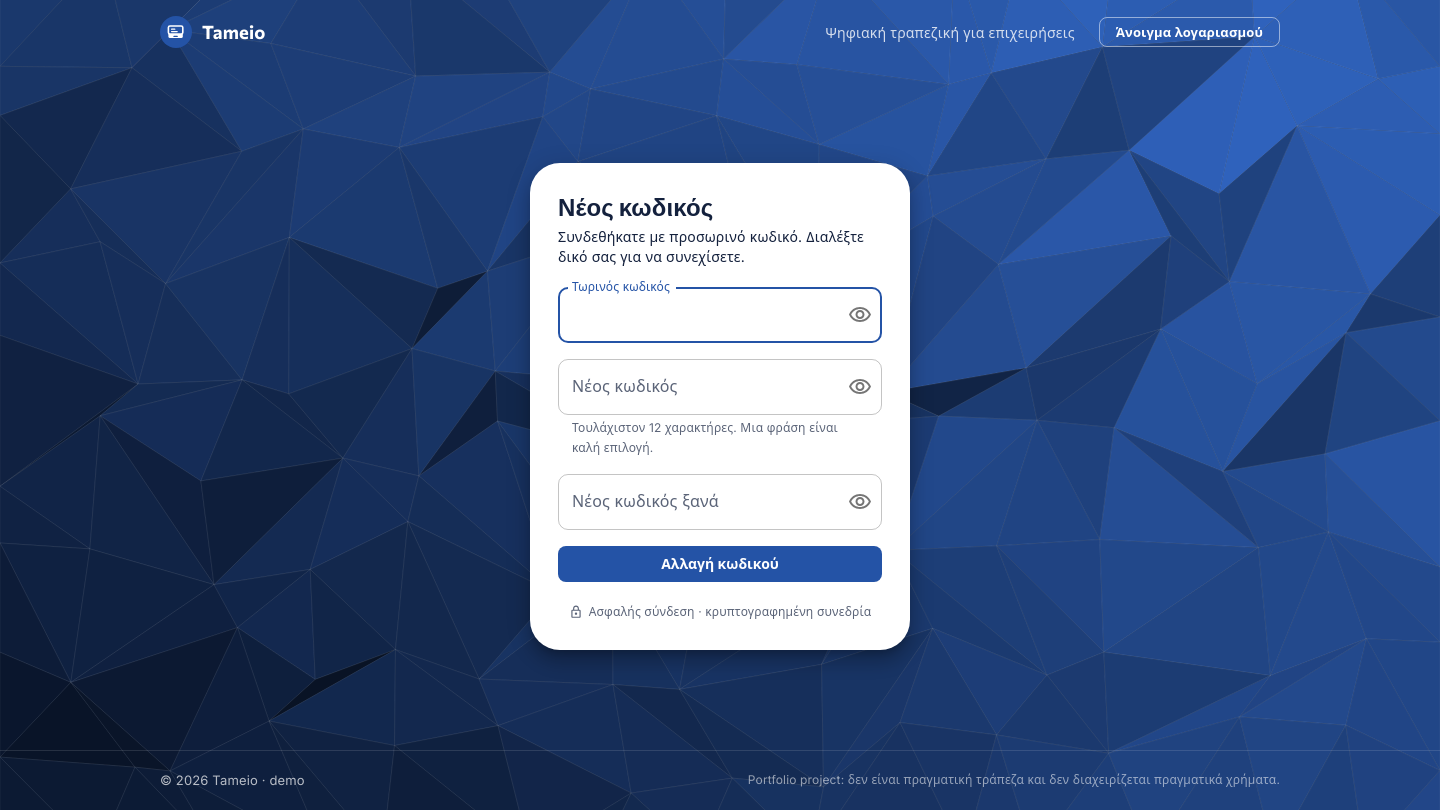
Test case: ChangePasswordPage › explains the temporary password and refuses a short or mismatched new one
The width and height of the screenshot is (1440, 810).
Check: the text "Συνδεθήκατε με προσωρινό κωδικό" is shown, box x1=558 y1=228 x2=864 y2=265
In the password field labelled "Τωρινός κωδικός": (695, 315) x1=558 y1=287 x2=832 y2=343, type "Abcd-EFGH-jkmn-2345"
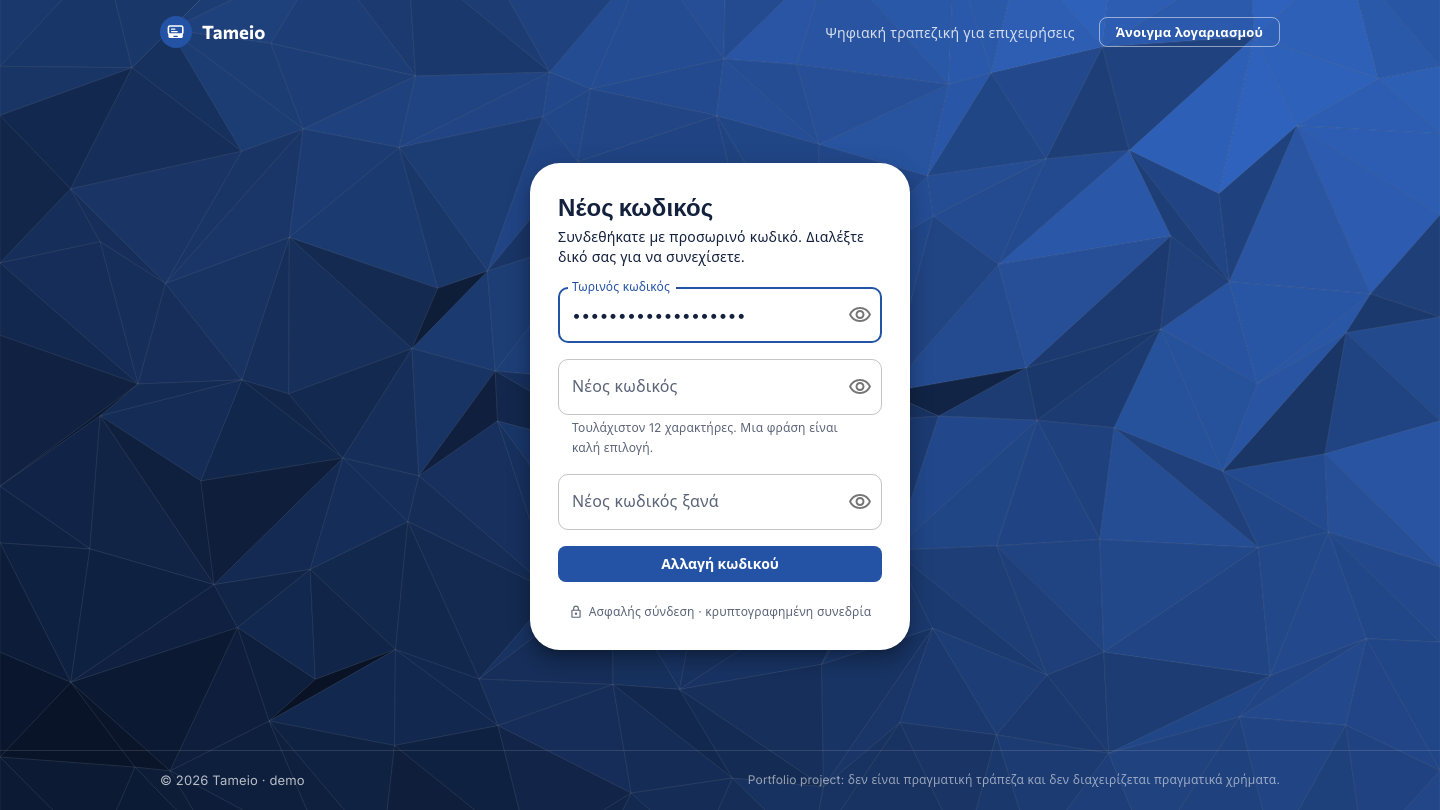
In the password field labelled "Νέος κωδικός": (695, 387) x1=558 y1=359 x2=832 y2=415, type "short"
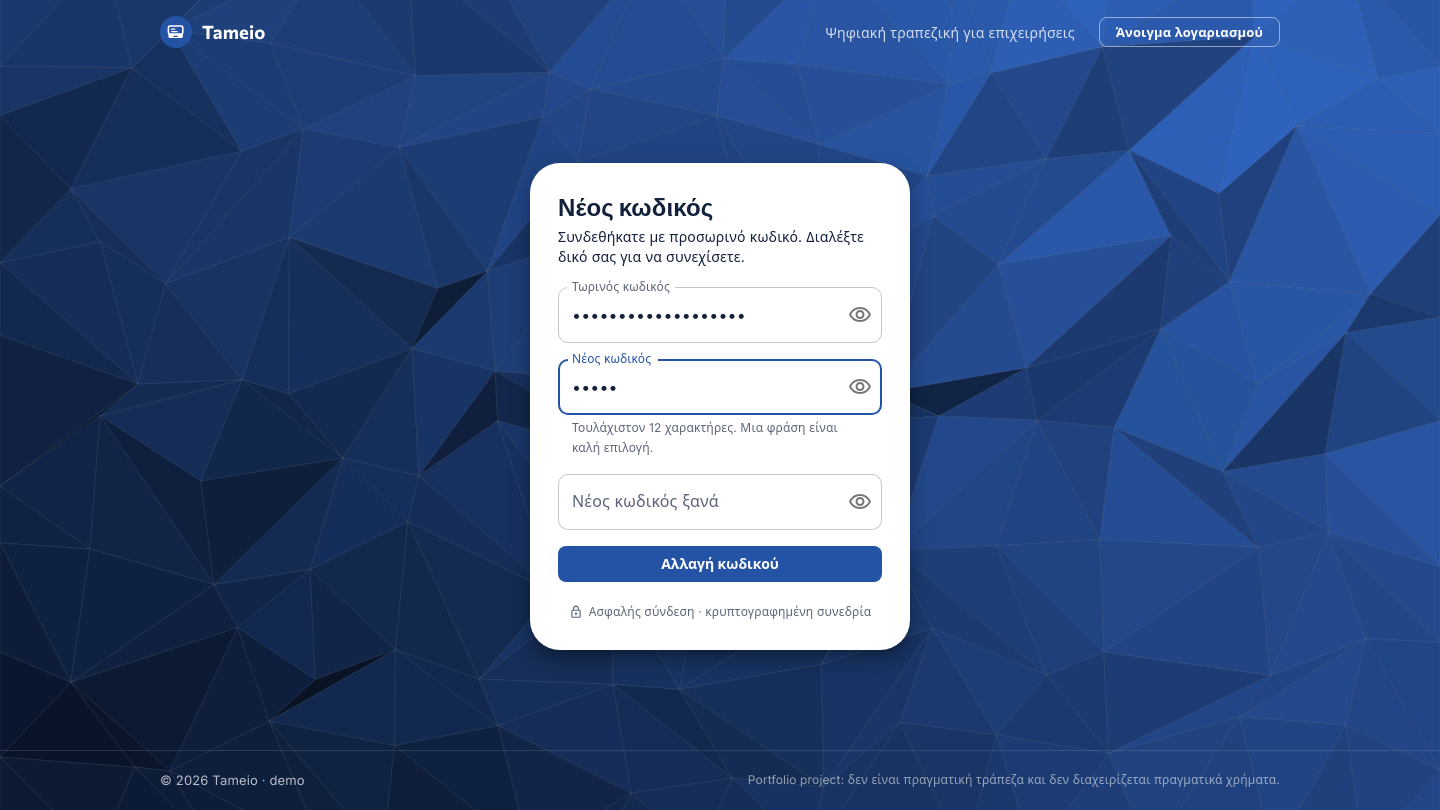
In the password field labelled "Νέος κωδικός ξανά": (695, 502) x1=558 y1=474 x2=832 y2=530, type "other"
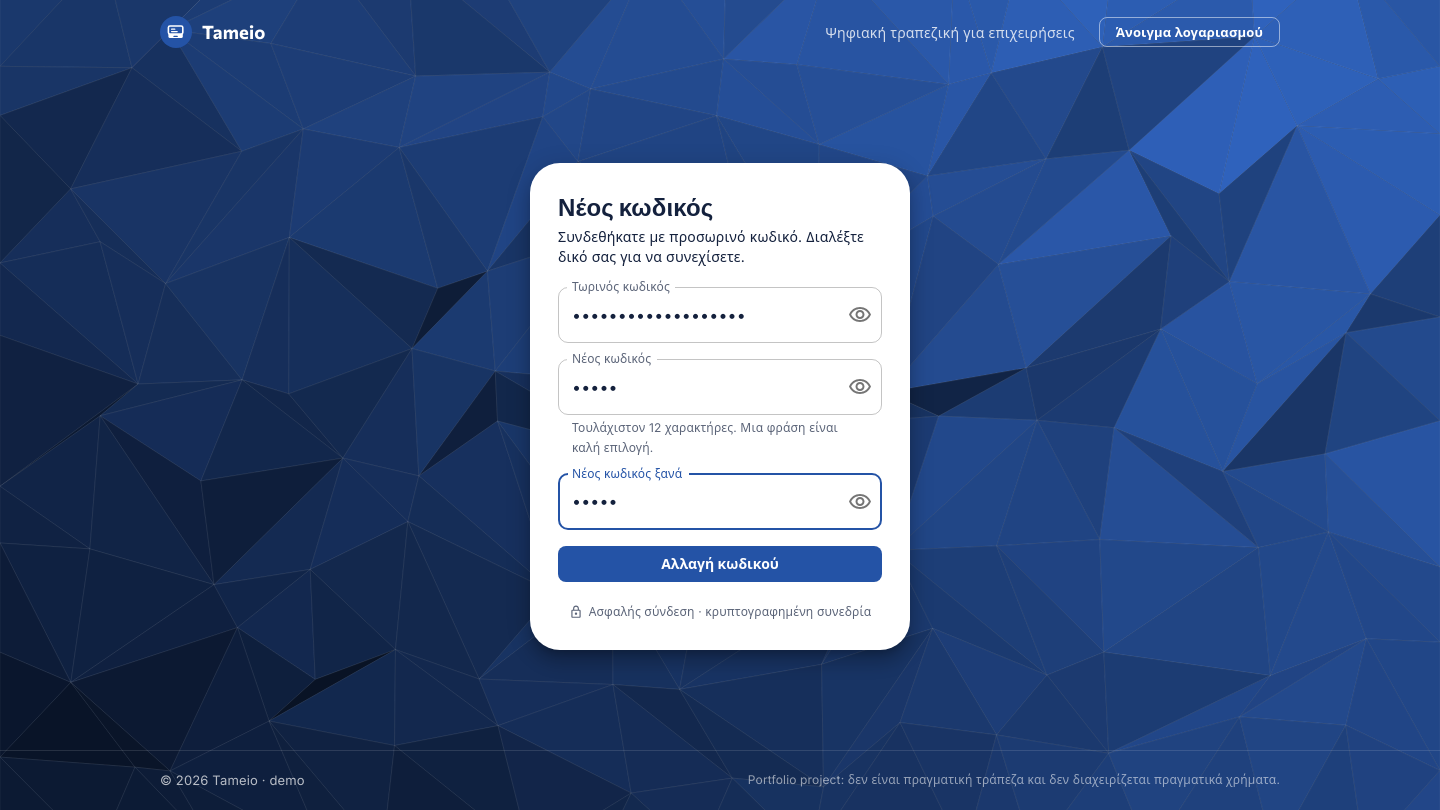
Click the button "Αλλαγή κωδικού": (720, 564) x1=558 y1=546 x2=882 y2=582
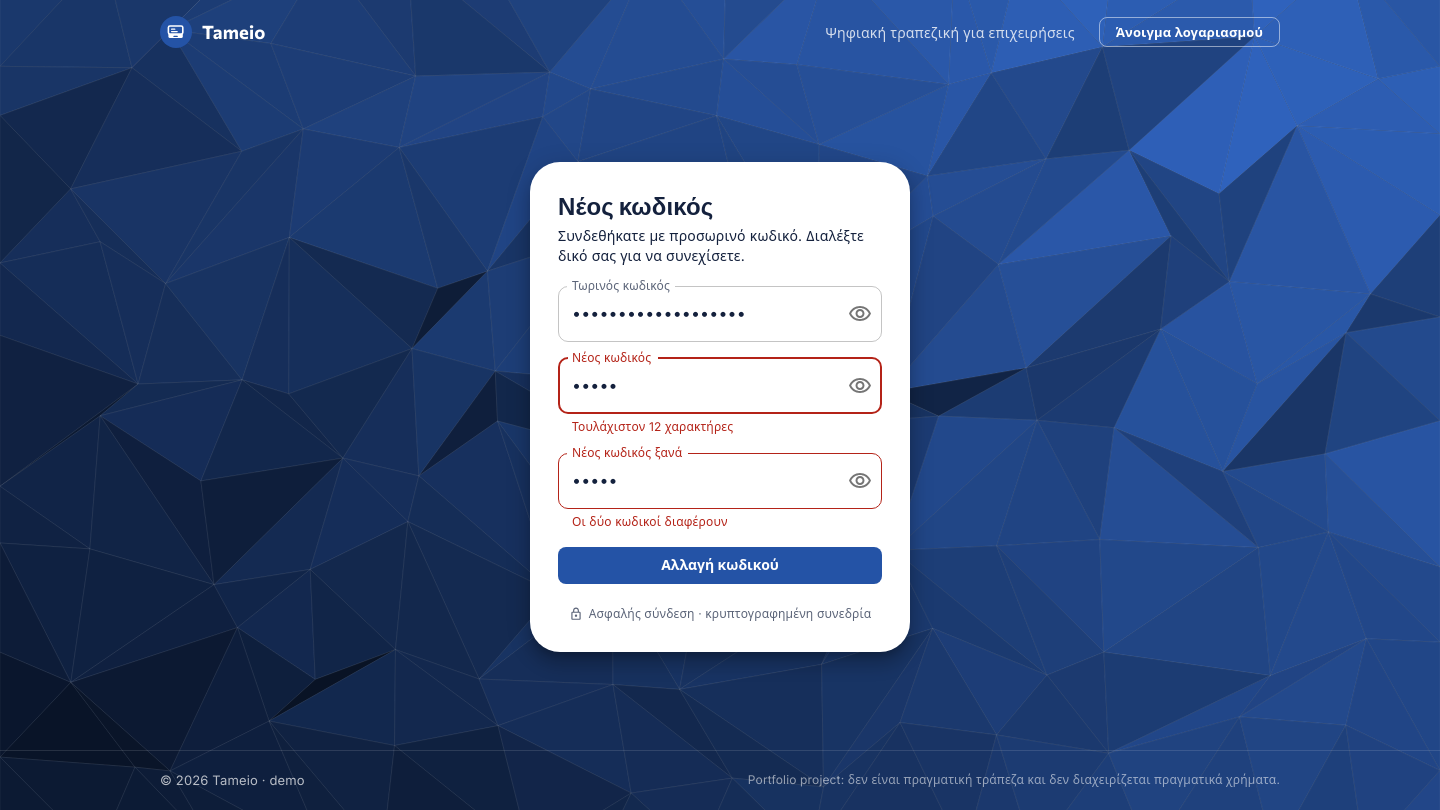
Check: the text "Τουλάχιστον 12 χαρακτήρες" is shown, box x1=572 y1=419 x2=733 y2=434
Check: the text "Οι δύο κωδικοί διαφέρουν" is shown, box x1=572 y1=514 x2=728 y2=529
